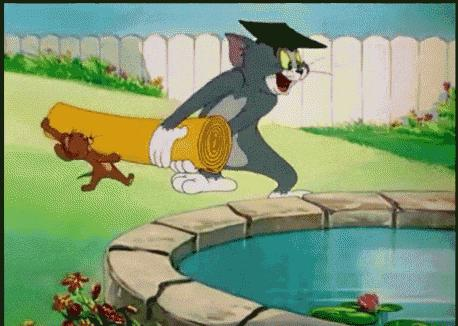jerry: (40, 117, 138, 193)
